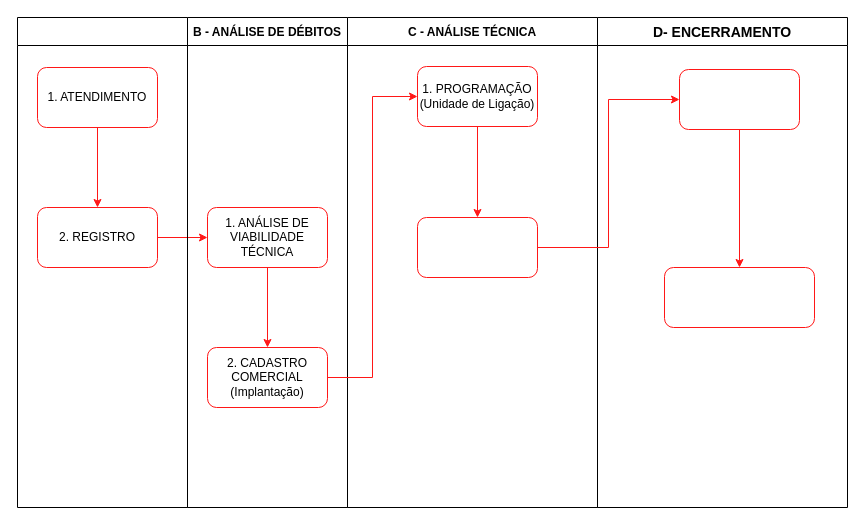
Image size: 865x525. Some labels were removed from this diagram. The shapes that lost their labels are listed below. From the top down, each one's centre as x and y in pixels, then its label:
At (739,99): "1. VALIDAÇÃO (Unidade de Ligação)".
At (102,262): "A - SOLICITAÇÃO".
At (477,247): "2. EXECUÇÃO (Terceirizada)".
At (739,297): "2. ENCERRAMENTO".
